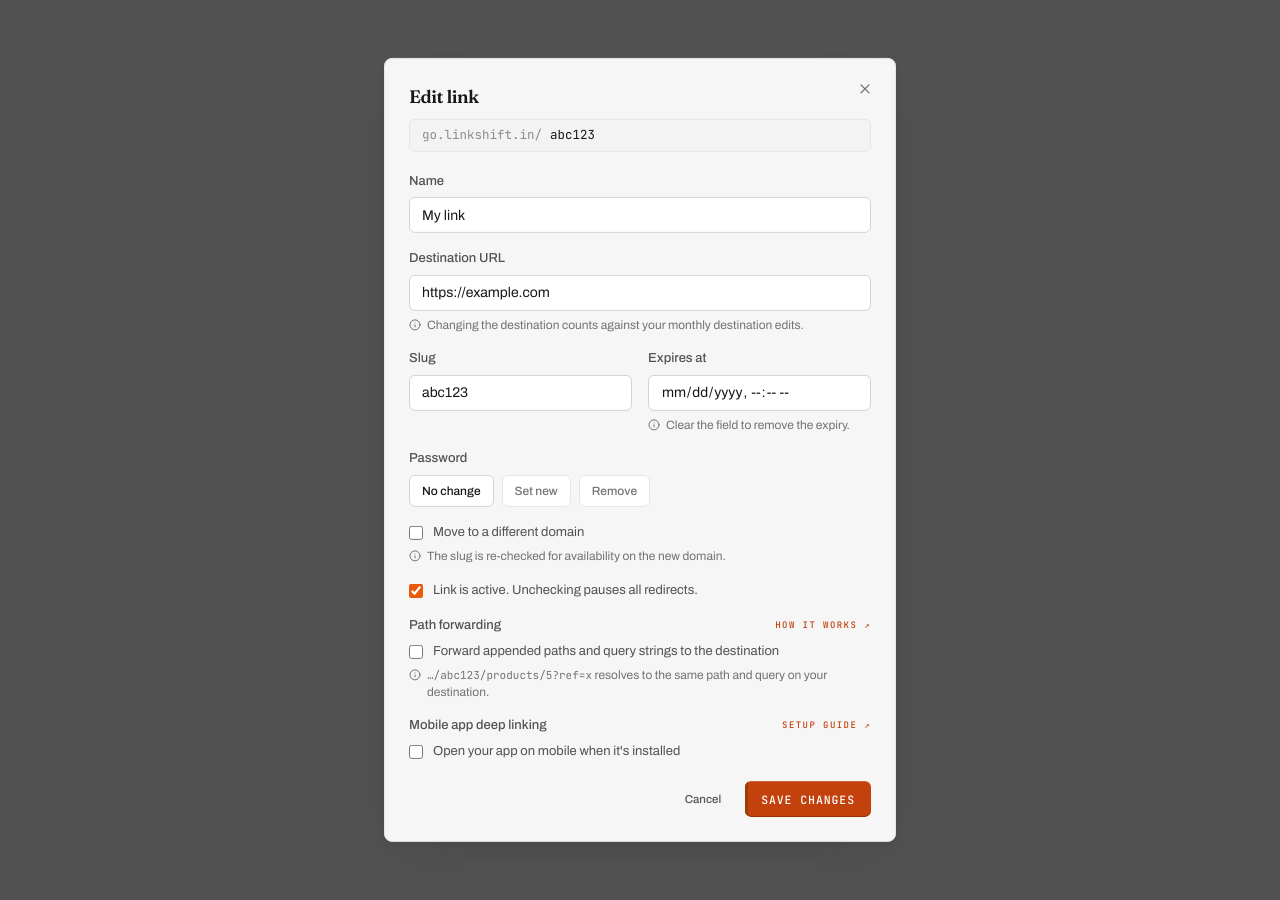
Test: EditLinkDialog short-link preview › falls back to the default domain when the switch is turned back off
Click the checkbox labelled "Move to a different domain".
click(416, 532)  # box [409,525,423,539]
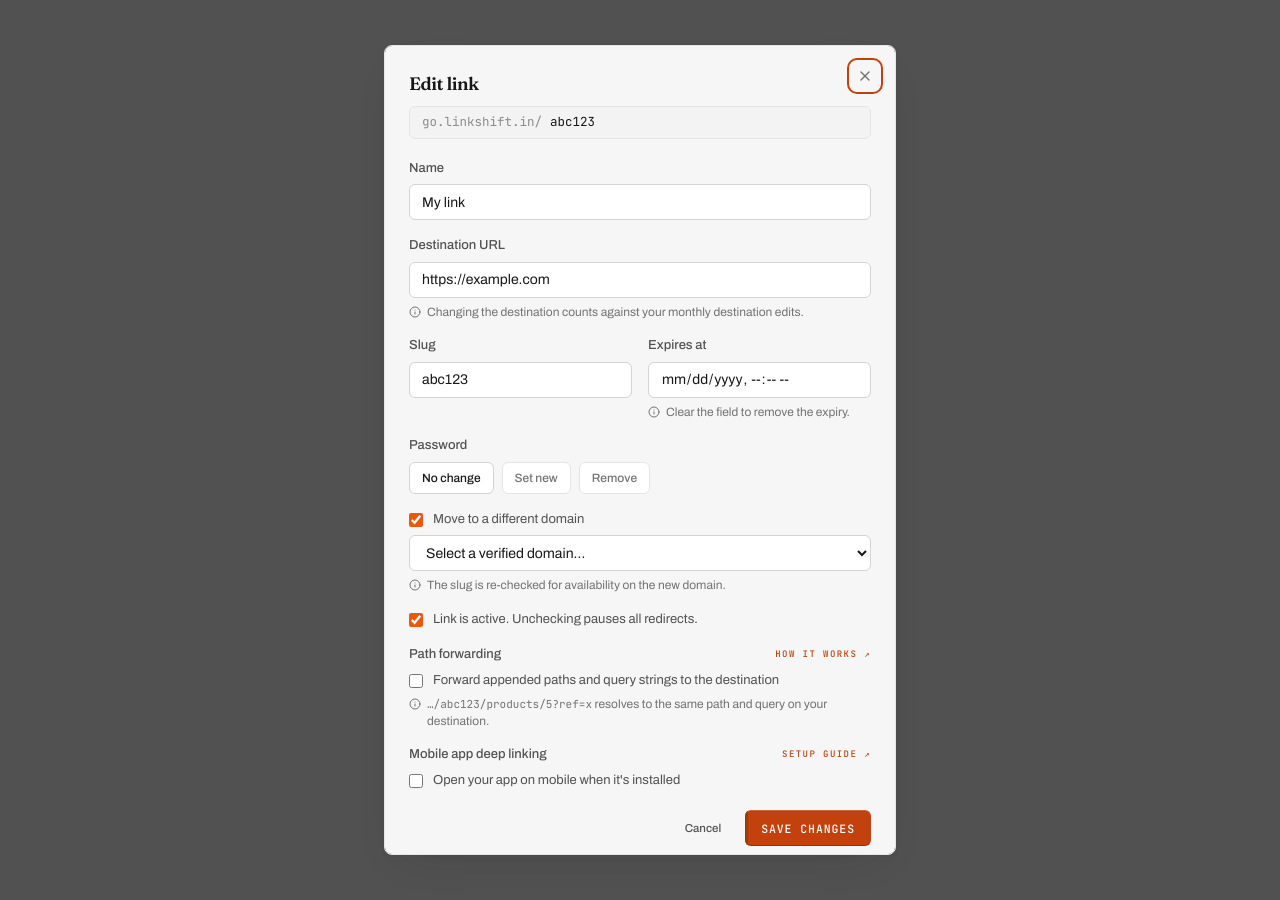
Select "nadeem.io" in the dropdown at (640, 553), box [409,535,871,571]
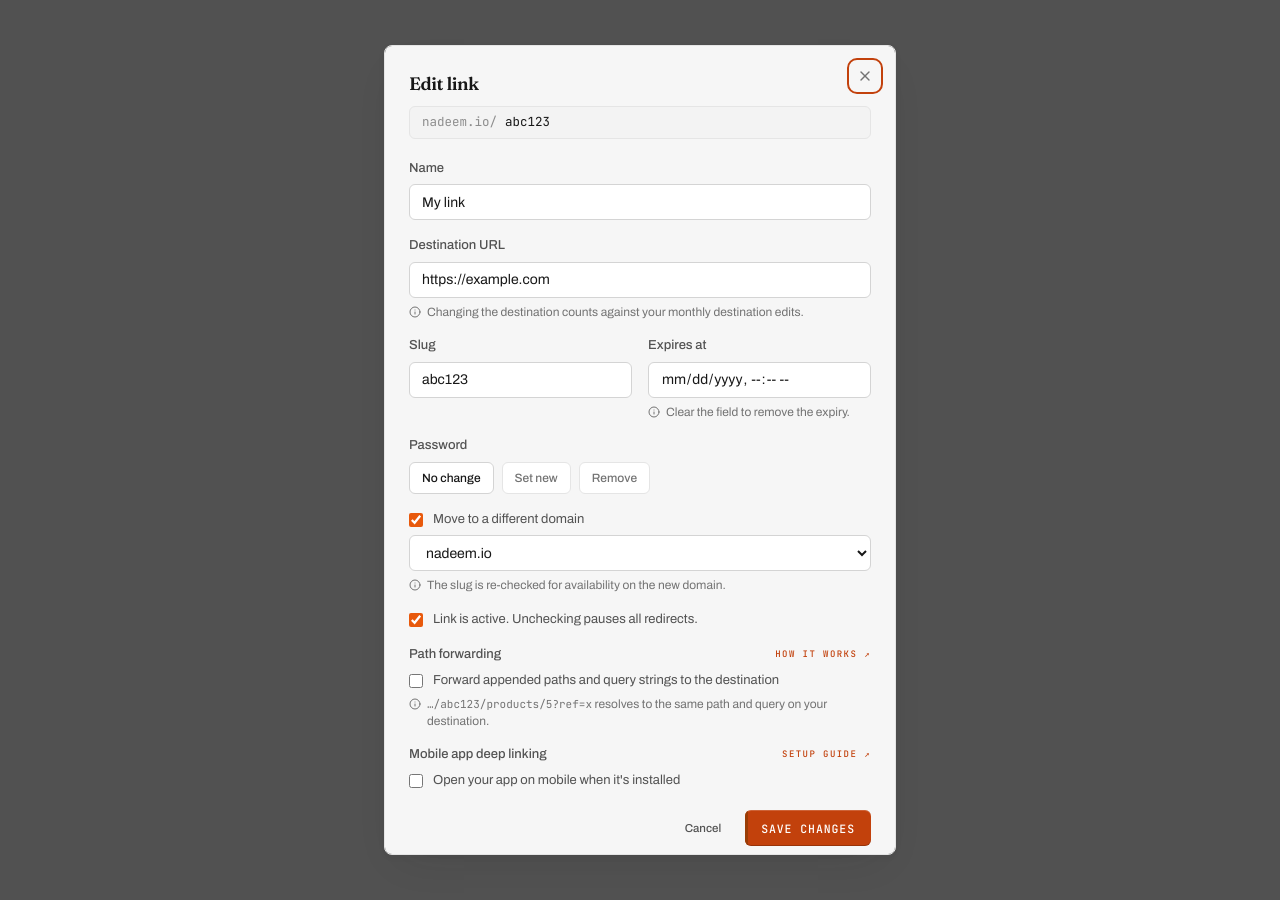
Check: the text "nadeem.io/" is shown, box [422,113,497,132]
Click the checkbox labelled "Move to a different domain".
click(416, 520)  # box [409,512,423,526]
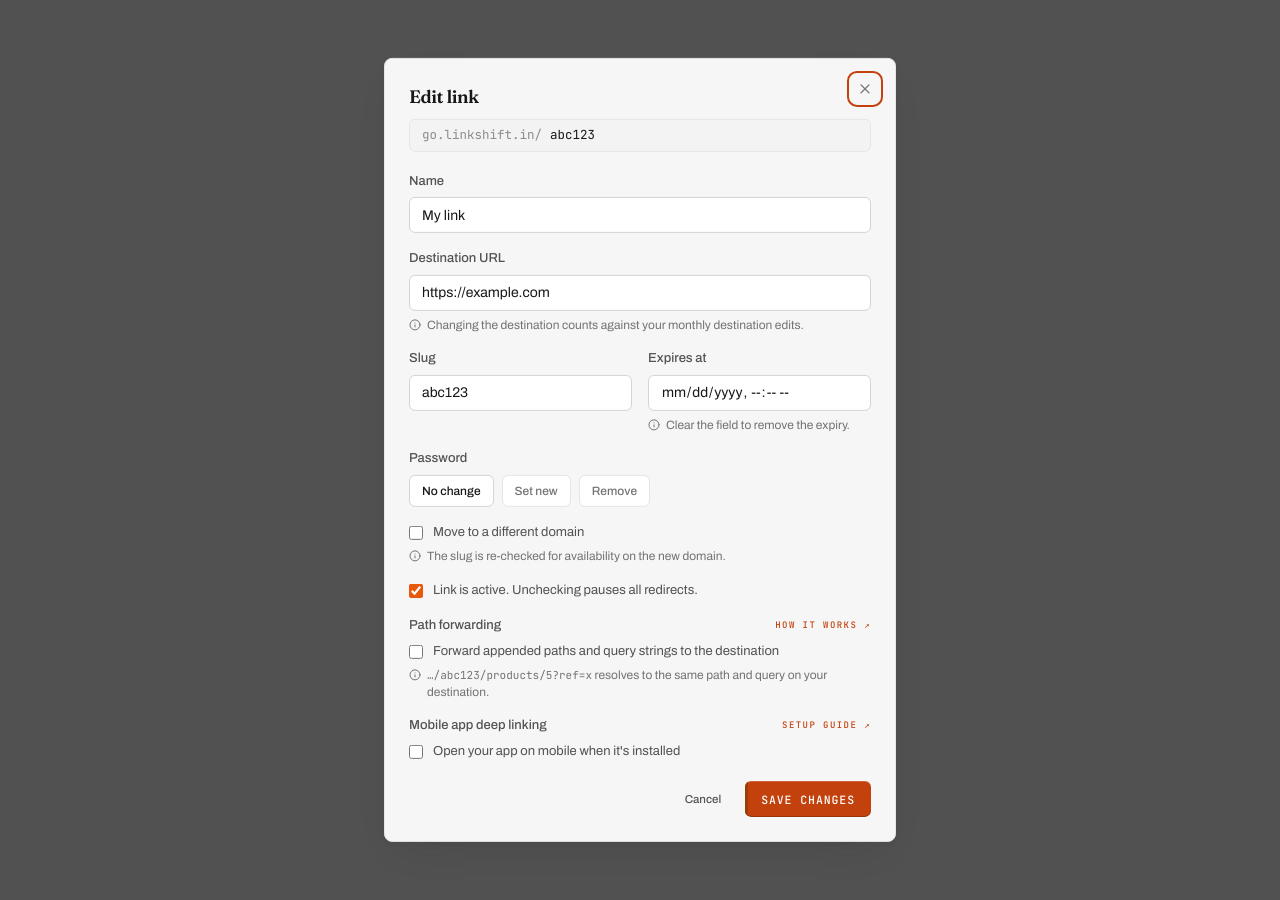
Check: the text "go.linkshift.in/" is shown, box [422,126,542,145]
